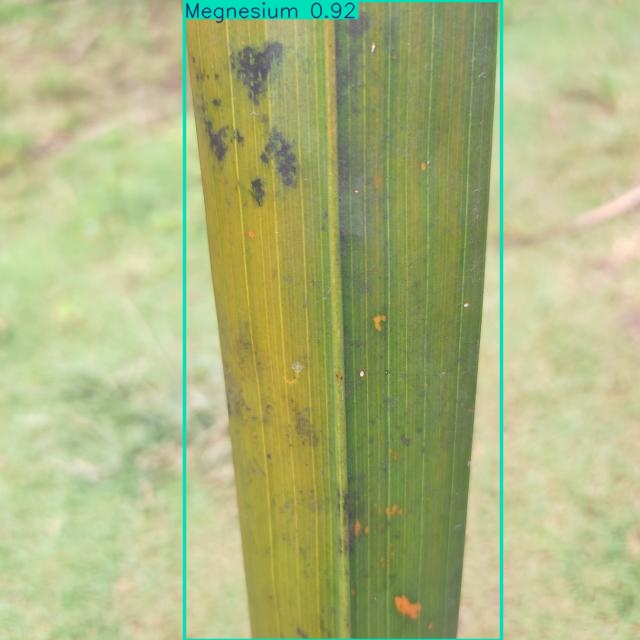Megnesium: (185, 0, 502, 640)
